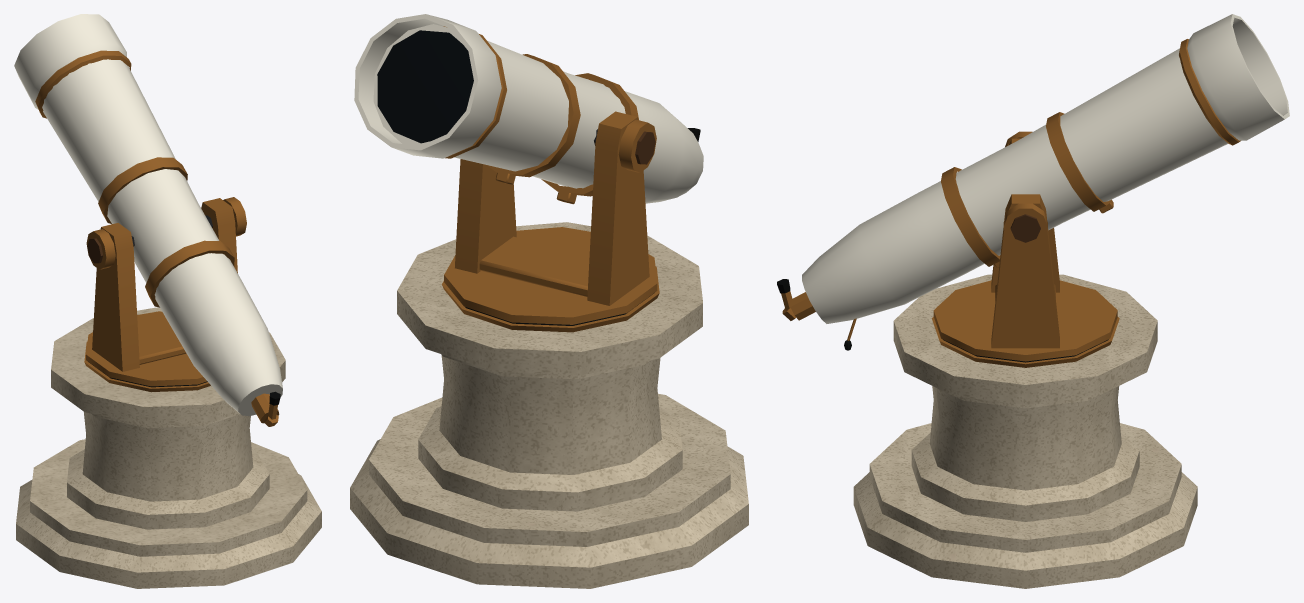
File: observatory-telescope.lod1.glb
3 renders of one model, left to right at view 1: azimuth 30°, elevation 25°; view 2: azimuth 150°, elevation 25°; view 3: azimuth 270°, elevation 25°, orthographic. The views are drawn at different scales.
Visible parts, largest first — view 1: observatory_telescope_Stone • warm limestone, Telescope_Altitude_Ceramic • warm ivory, Telescope_Azimuth_Trim • places palette, Telescope_Altitude_Trim • places palette; view 2: observatory_telescope_Stone • warm limestone, Telescope_Azimuth_Trim • places palette, Telescope_Altitude_Ceramic • warm ivory, Telescope_Altitude_Trim • places palette; view 3: observatory_telescope_Stone • warm limestone, Telescope_Altitude_Ceramic • warm ivory, Telescope_Azimuth_Trim • places palette, Telescope_Altitude_Trim • places palette.
Boxes of the visible parts, x1,y1,x2,y2 form: observatory_telescope_Stone • warm limestone: (16,307,321,588); Telescope_Altitude_Ceramic • warm ivory: (14,14,282,416); Telescope_Azimuth_Trim • places palette: (84,197,246,392); Telescope_Altitude_Trim • places palette: (35,50,280,426); observatory_telescope_Stone • warm limestone: (350,222,748,588); Telescope_Azimuth_Trim • places palette: (442,111,659,332); Telescope_Altitude_Ceramic • warm ivory: (354,14,703,203); Telescope_Altitude_Trim • places palette: (377,26,700,204); observatory_telescope_Stone • warm limestone: (853,274,1197,588); Telescope_Altitude_Ceramic • warm ivory: (802,14,1289,323); Telescope_Azimuth_Trim • places palette: (932,131,1119,367); Telescope_Altitude_Trim • places palette: (777,39,1240,350).
Size of the model in its own units: 1.69 by 2.7 by 2.54.
3 materials, 2 textured.
